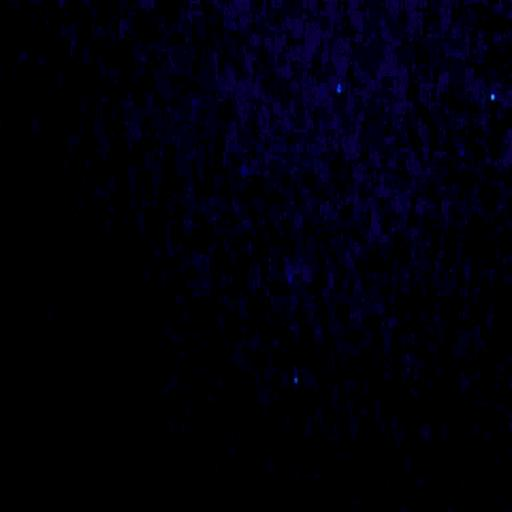object-detection-project: (336, 83, 342, 93), (491, 94, 495, 100)
